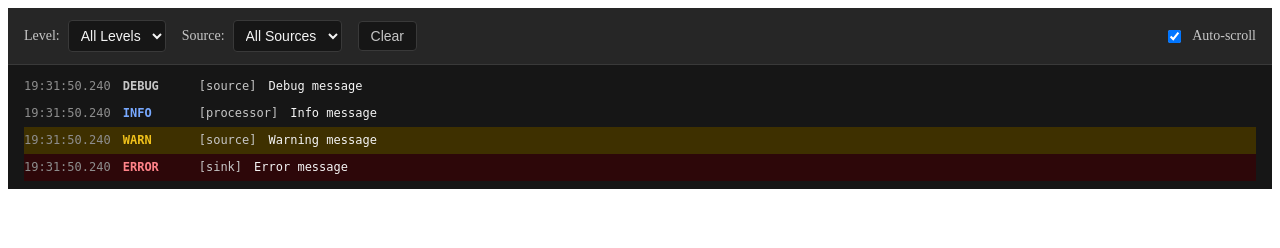
Test: LogsTab › Filtering › should show empty state when no logs match filters
Select "ERROR" in the dropdown with test id "level-filter": (117, 36) [68,20,166,52]
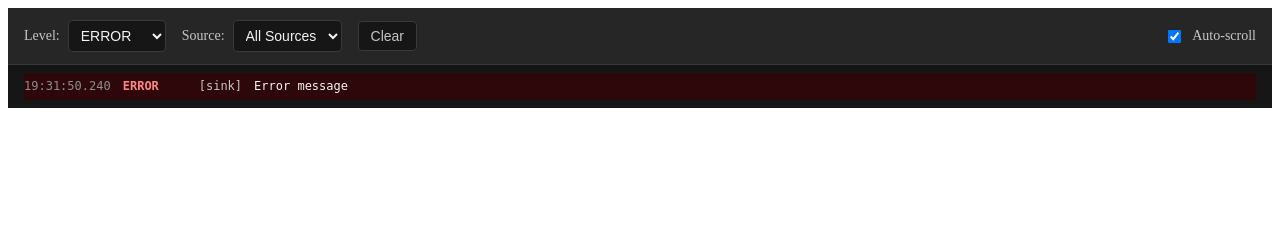
Select "processor" in the dropdown with test id "component-filter": (287, 36) [232,20,342,52]
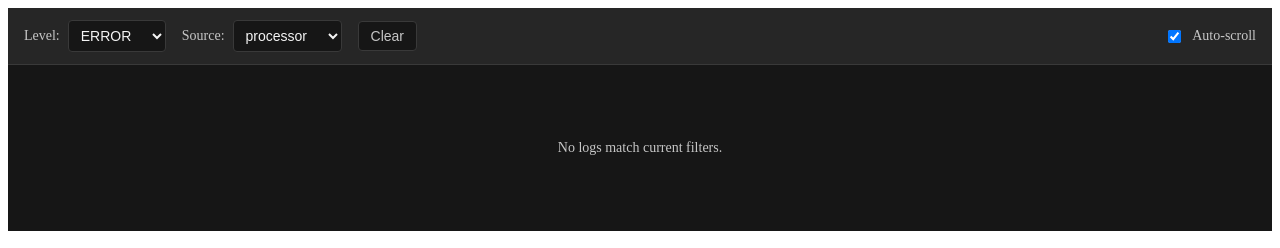
Expected: no elements with test id "log-entry" are shown
Expected: the text "No logs match current filters." is shown, [558,140,722,156]
